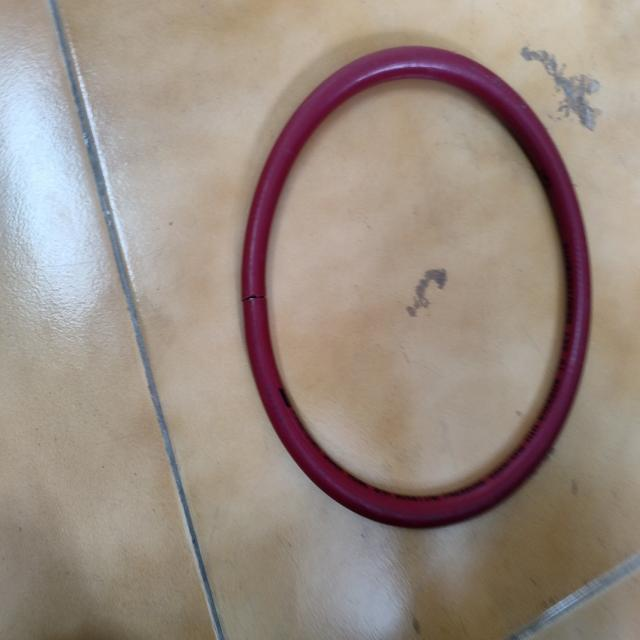daire: (239, 53, 593, 530)
